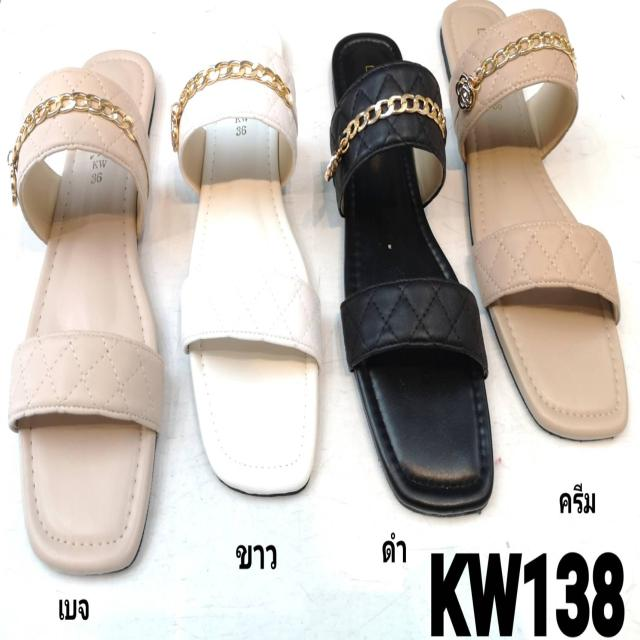bej: (21, 50, 161, 565)
black: (334, 29, 494, 510)
cream: (443, 7, 627, 442)
white: (189, 32, 314, 487)
